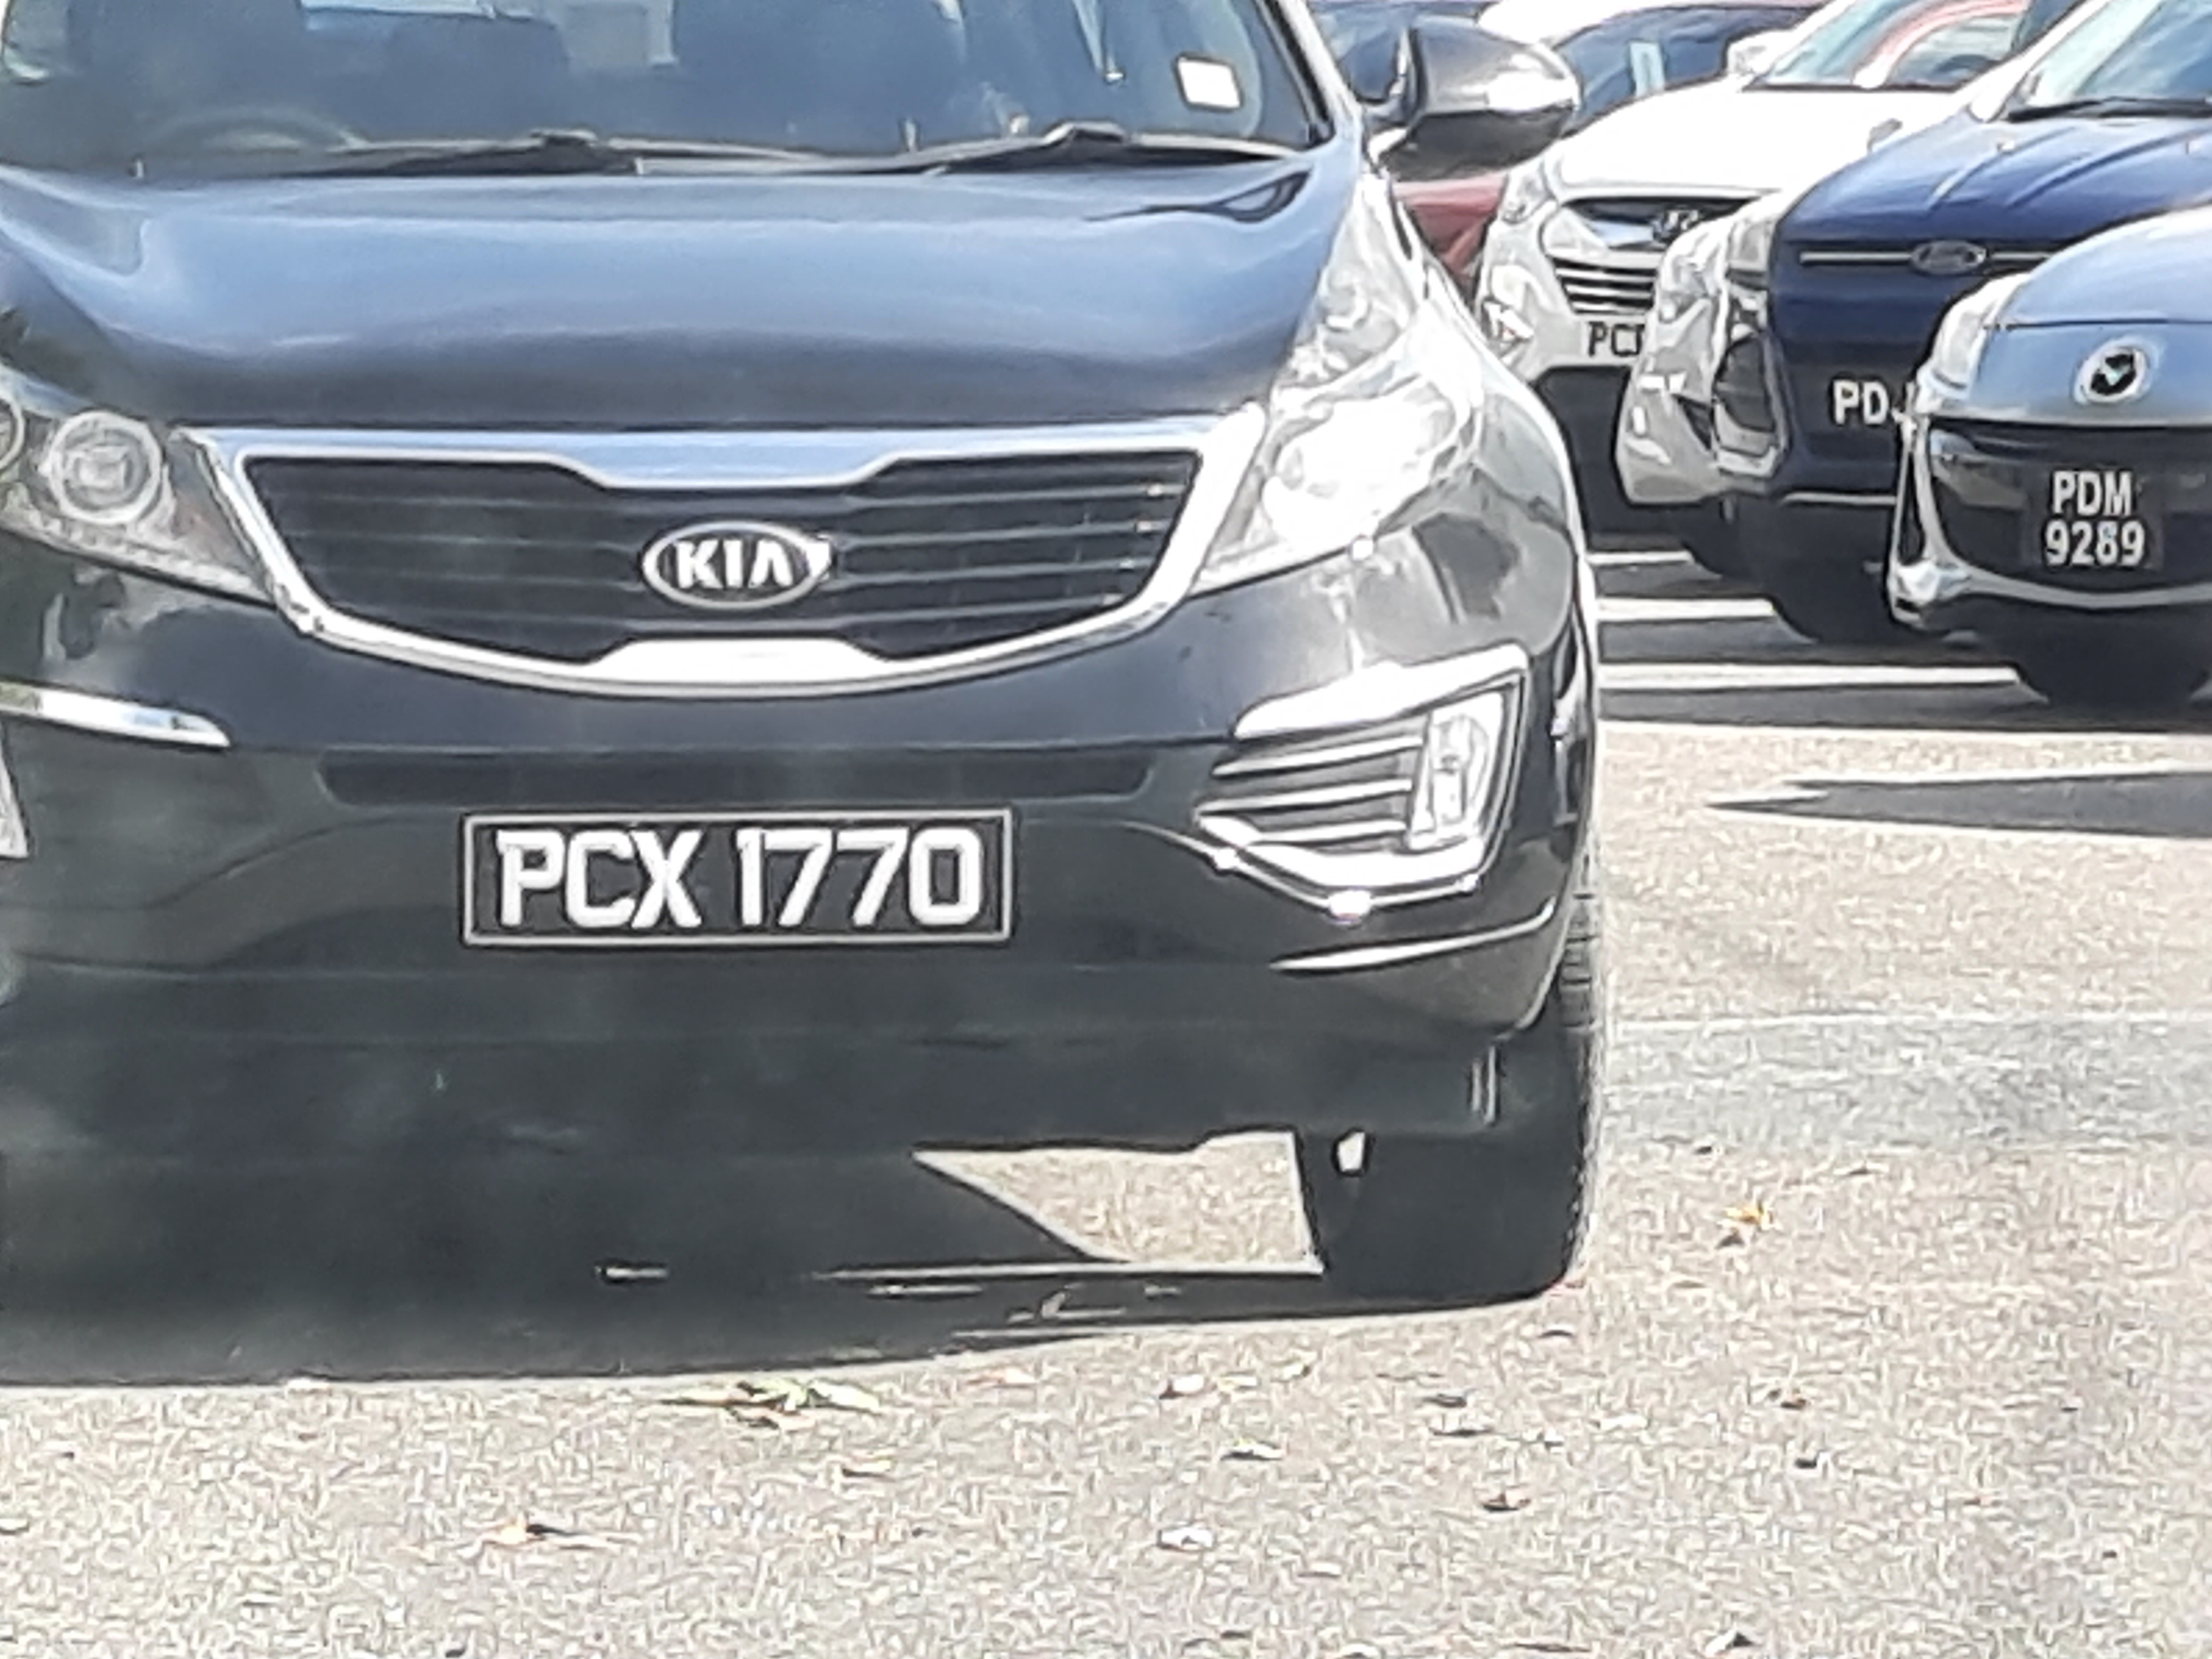License-Plate: (465, 812, 1008, 942), (2025, 465, 2164, 575)
